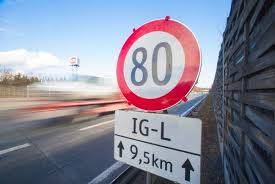Speed_limit_80km: (116, 17, 202, 111)
